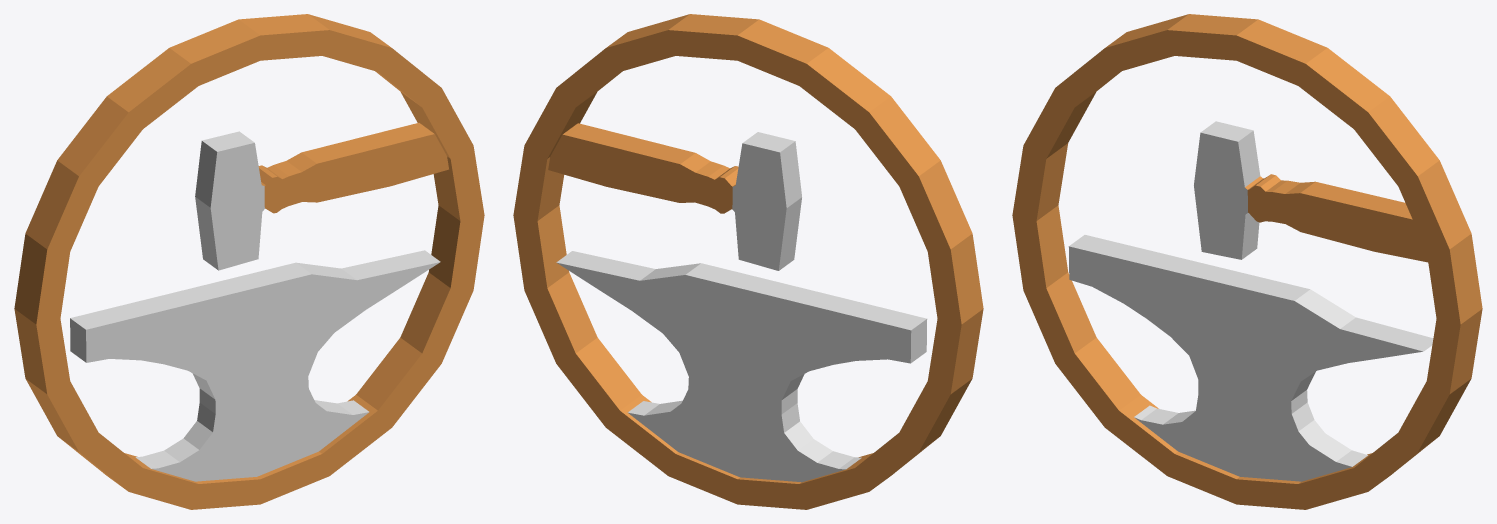
File: BlackSmithSign.fbx
3 views of the same model, side by side, from view 1: azimuth 30°, elevation 25°; view 2: azimuth 150°, elevation 25°; view 3: azimuth 330°, elevation 25° (orthographic).
Visible parts, largest first — view 1: Plane.021; view 2: Plane.021; view 3: Plane.021.
Part boxes in pixels (x1,y1,x2,y2): Plane.021: (14,14,484,509); Plane.021: (513,14,983,509); Plane.021: (1012,14,1482,509).
Size of the model in its own units: 276 by 276 by 23.4.
